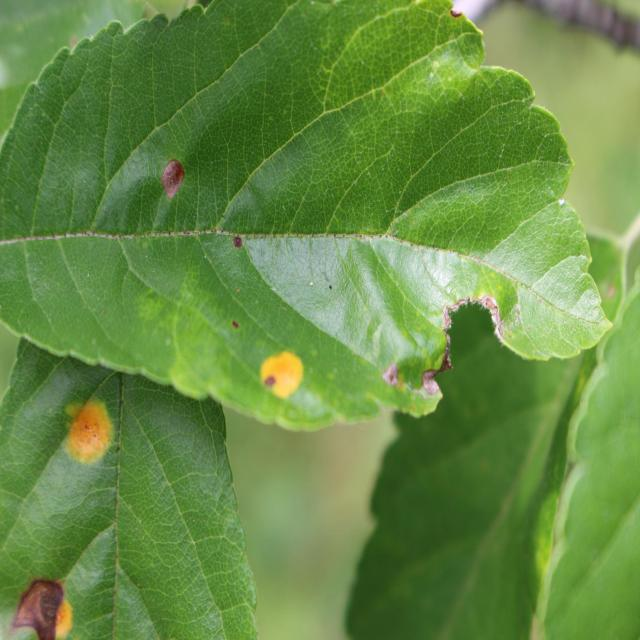Rust: (13, 552, 74, 640), (55, 388, 118, 470), (253, 346, 320, 411)
